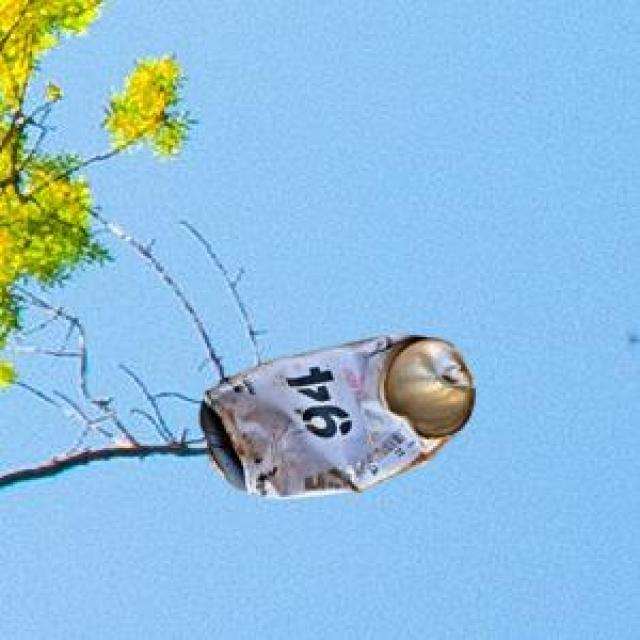logam: (197, 332, 470, 496)
